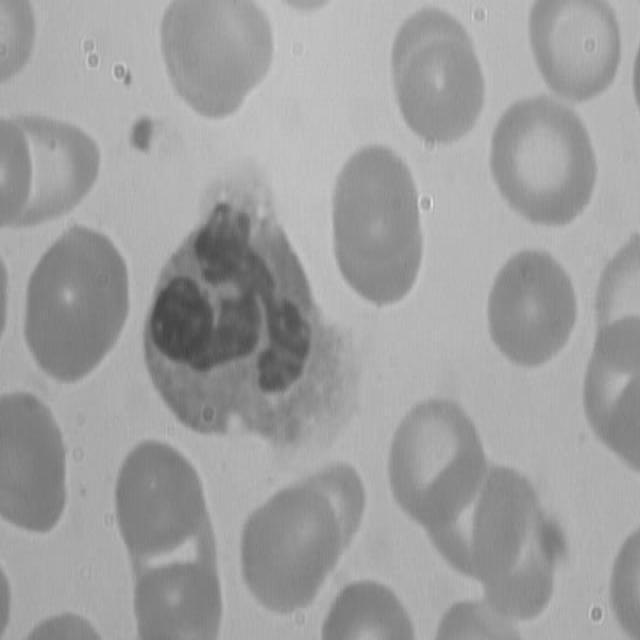Platelets: (121, 102, 166, 162)
RBC: (488, 96, 601, 236), (377, 390, 490, 530), (477, 254, 590, 378), (314, 145, 423, 271), (319, 183, 428, 308), (20, 245, 109, 384), (41, 229, 130, 368), (164, 0, 259, 123), (397, 29, 492, 152), (233, 497, 328, 620), (112, 443, 207, 565)
WBC: (118, 169, 372, 452)
